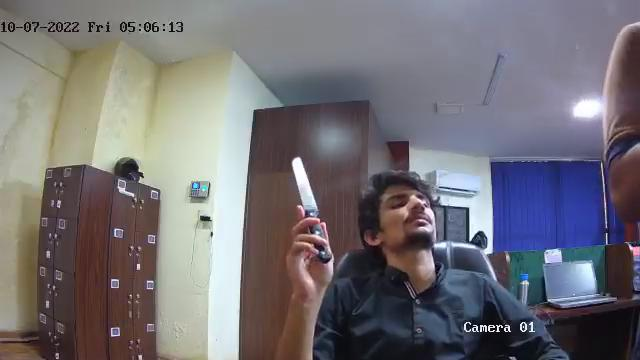knives: (289, 156, 329, 259)
